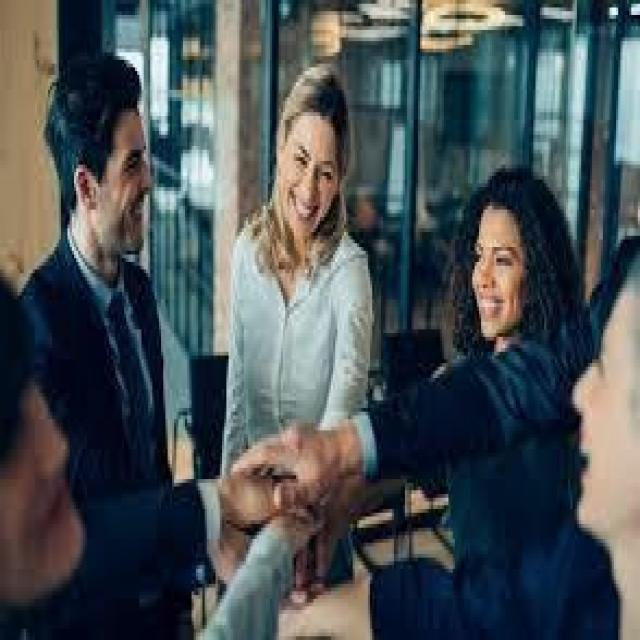person: (26, 19, 190, 479), (237, 8, 377, 460), (407, 82, 568, 363), (551, 165, 638, 602), (0, 232, 100, 610)
